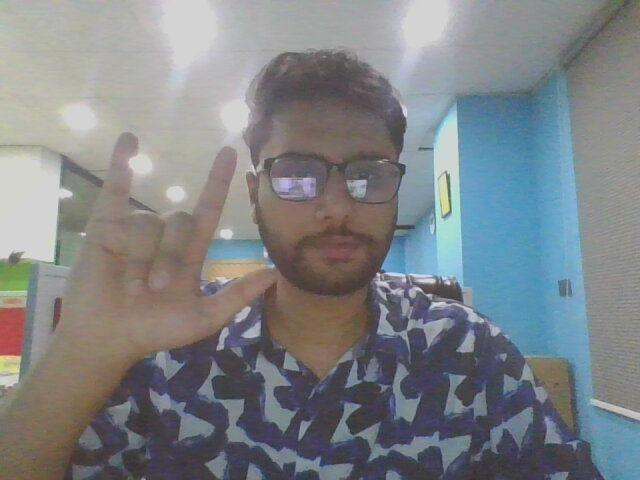iloveyou: (55, 126, 281, 383)
